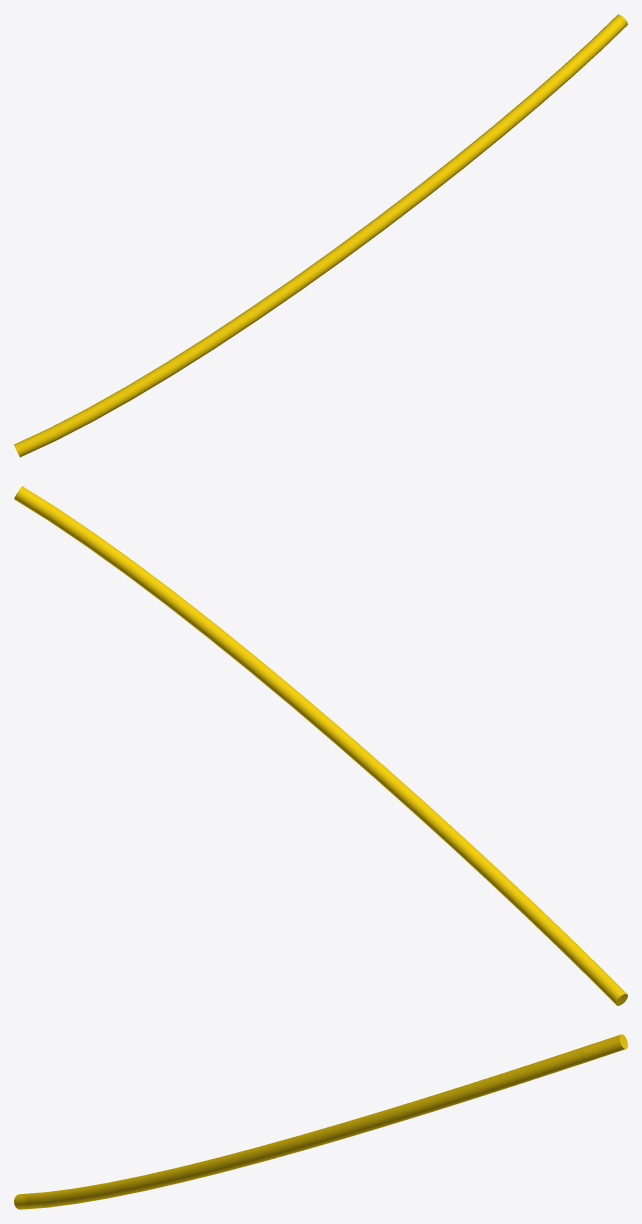
File: Event_421115418_track_75.fbx
3 views of the same model, one above another, from view 1: azimuth 30°, elevation 25°; view 2: azimuth 150°, elevation 25°; view 3: azimuth 330°, elevation 25° (orthographic). The views are drawn at different scales.
Parts seen in each view (by area): view 1: Model; view 2: Model; view 3: Model.
Boxes of the visible parts, x1,y1,x2,y2 form: Model: [14, 14, 627, 457]; Model: [14, 486, 627, 1005]; Model: [14, 1034, 627, 1209].
Size of the model in its own units: 1.89 by 0.9812 by 0.2263.
